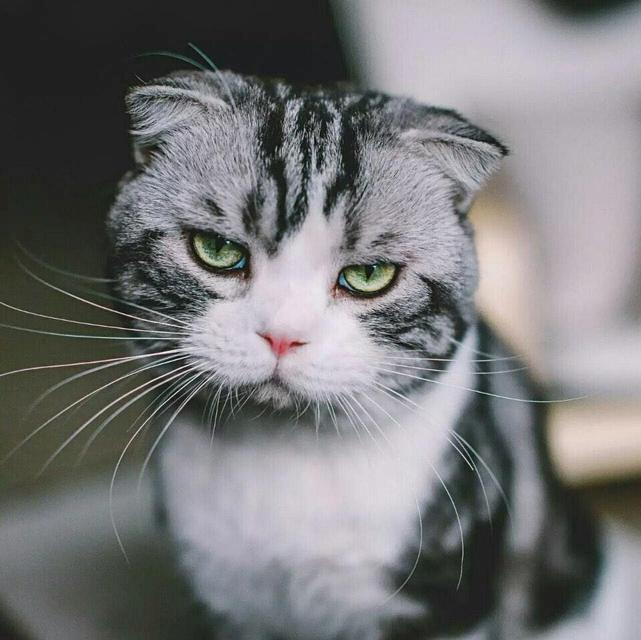cat: (23, 44, 617, 639)
